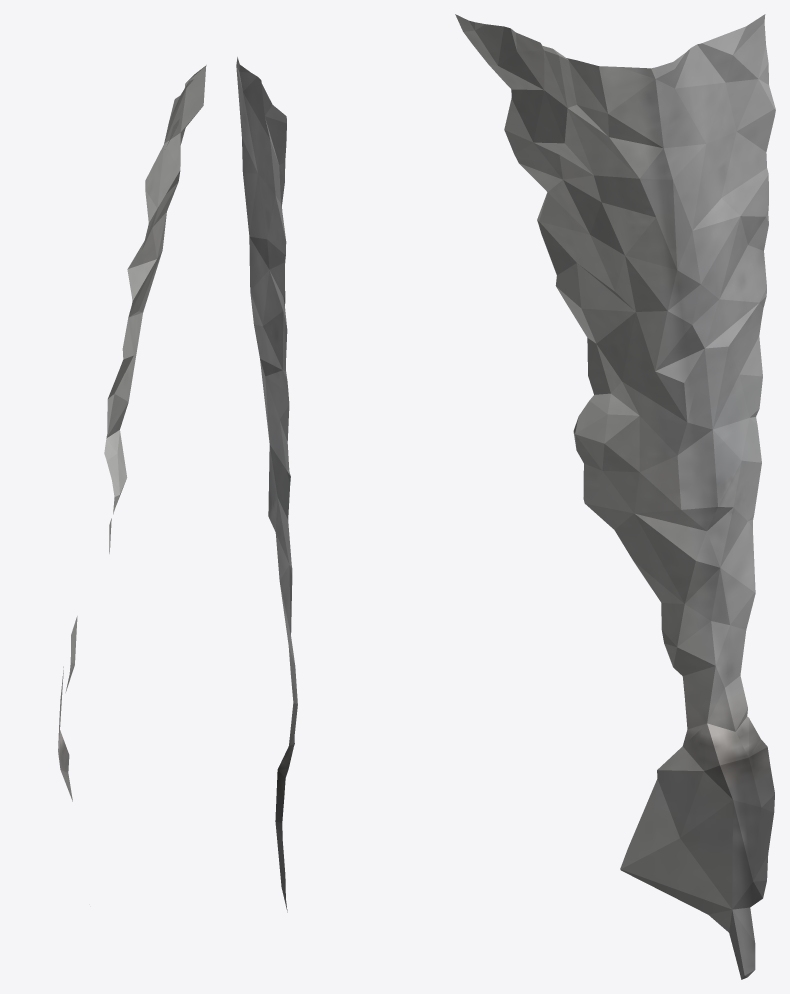
3 views of the same model, side by side, from view 1: azimuth 30°, elevation 25°; view 2: azimuth 150°, elevation 25°; view 3: azimuth 270°, elevation 25° (orthographic). The views are drawn at different scales.
Bounding box in the file's own units: 0.0759 × 0.6291 × 0.1894.
1 material, 1 textured.
